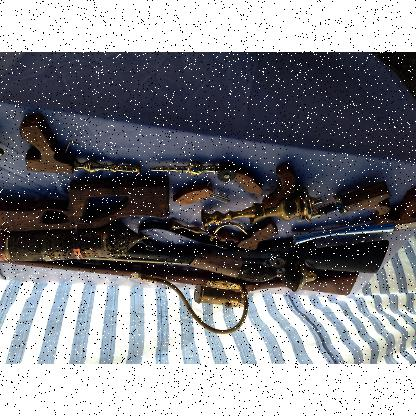gun: (121, 238, 390, 294)
